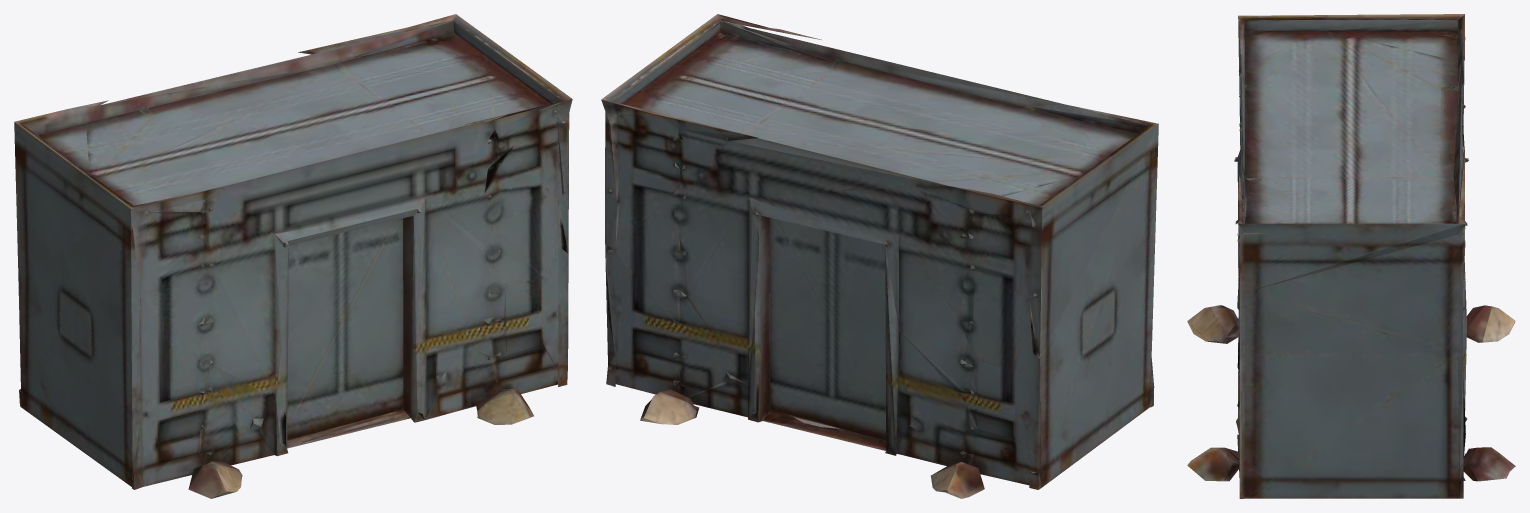
The model's file is door_dock.glb.
3 renders of one model, left to right at view 1: azimuth 30°, elevation 25°; view 2: azimuth 150°, elevation 25°; view 3: azimuth 270°, elevation 25°, orthographic. The views are drawn at different scales.
Bounding box in the file's own units: 1.9 × 1.2 × 1.26.
1 material, 1 textured.
